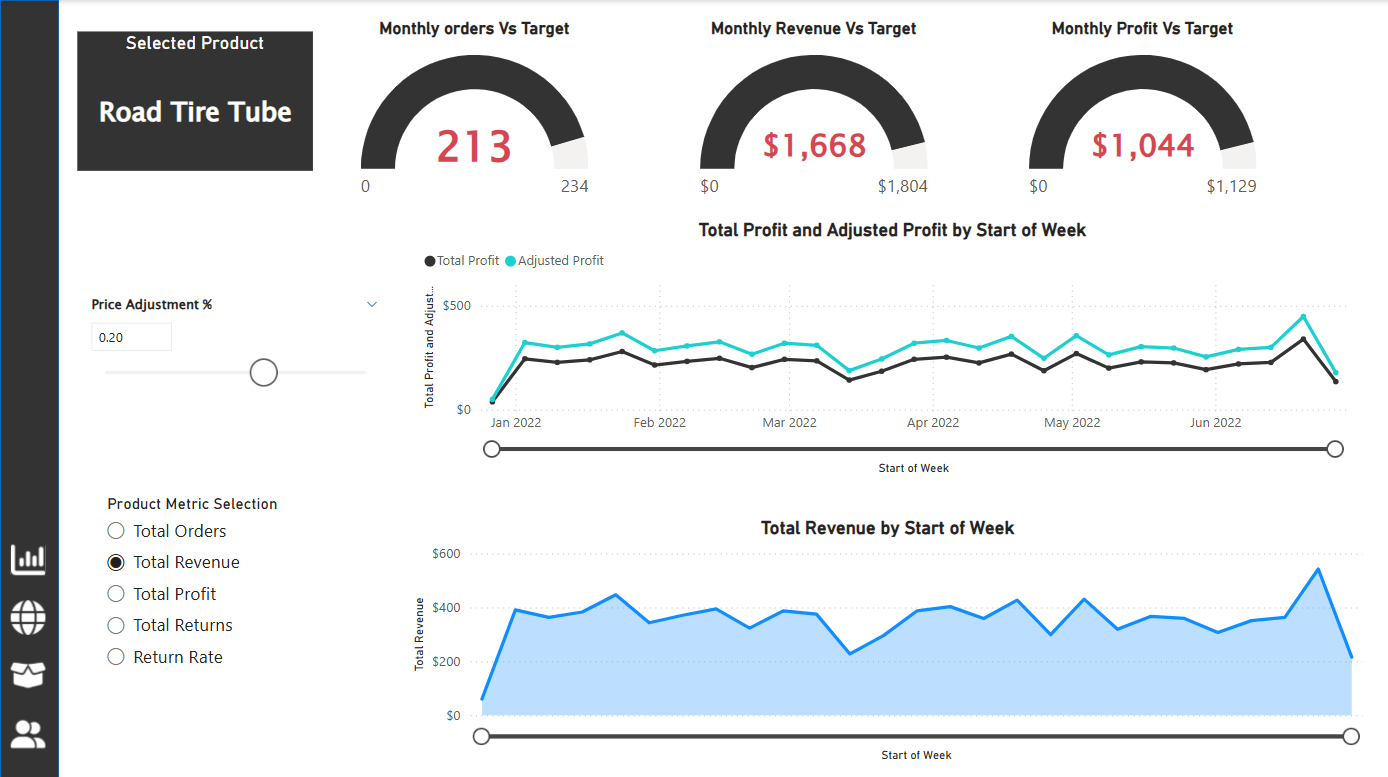

Layout of this report page (visuals, bound fields, positions):
{"tool":"powerbi","page":{"name":"Product Details","canvas":[1280,720],"ordinal":2},"visuals":[{"type":"shape","box":[0,0,54.5,719.1],"z":0},{"type":"actionButton","box":[5.4,495.8,99.9,40],"z":0,"group":"g1"},{"type":"gauge","title":"Monthly orders Vs Target","fields":{"Y":["Measurable Table.Total Orders"],"MaxValue":["Measurable Table.Order_Target(10% increse over previous month)"]},"box":[326.9,16.3,219.7,185.2],"z":1000},{"type":"actionButton","box":[5.4,549.1,99.9,40],"z":1000,"group":"g1"},{"type":"gauge","title":"Monthly Profit Vs Target","fields":{"Y":["Measurable Table.Total Profit"],"MaxValue":["Measurable Table.Profit_Target(10% increse over previous month)"]},"box":[940.7,16.3,219.7,185.2],"z":2000},{"type":"actionButton","box":[5.4,602.3,99.9,40],"z":2000,"group":"g1"},{"type":"gauge","title":"Monthly Revenue Vs Target","fields":{"Y":["Measurable Table.Total Revenue"],"MaxValue":["Measurable Table.Revenue Target"]},"box":[639.2,16.3,219.7,185.2],"z":3000},{"type":"actionButton","box":[5.4,655.6,99.9,40],"z":3000,"group":"g1"},{"type":"lineChart","fields":{"Category":["Calendar Lookup.Date Hirearchy.Start of Year","Calendar Lookup.Date Hirearchy.Start of Month","Calendar Lookup.Date Hirearchy.Start of Week","Calendar Lookup.Date Hirearchy.Date"],"Y":["Measurable Table.Total Profit","Measurable Table.Adjusted Profit"]},"box":[384.7,201.3,873.2,239.8],"z":4000},{"type":"areaChart","fields":{"Y":["Measurable Table.Total Revenue"],"Category":["Calendar Lookup.Date Hirearchy.Start of Year","Calendar Lookup.Date Hirearchy.Start of Month","Calendar Lookup.Date Hirearchy.Start of Week","Calendar Lookup.Date Hirearchy.Date"]},"box":[374.4,474.4,883.4,230.8],"z":5000},{"type":"card","title":"Selected Product ","fields":{"Values":["Min(Product Lookup.ProductName)"]},"box":[70.5,29.5,216.7,128.2],"z":6000},{"type":"group","id":"g1","title":"Navigation button","box":[5.4,495.8,99.9,199.8],"z":7000},{"type":"slicer","fields":{"Values":["Parameter.Parameter"]},"box":[70.5,266.7,288.5,110.3],"z":8000},{"type":"slicer","fields":{"Values":["Product Metric Selection.Product Metric Selection"]},"box":[85.9,450.1,224.4,192.3],"z":9000}]}

Visuals, with their boxes on the page's 1280x720 design canvas (x1, y1, x2, y2). These are canvas units, not pixel positions in the 1388x777 screenshot, which may show the page scaled, cropped or inside an application window:
shape: 0/0/54/719
actionButton: 5/496/105/536
"Monthly orders Vs Target" gauge: 327/16/547/202
actionButton: 5/549/105/589
"Monthly Profit Vs Target" gauge: 941/16/1160/202
actionButton: 5/602/105/642
"Monthly Revenue Vs Target" gauge: 639/16/859/202
actionButton: 5/656/105/696
lineChart - Calendar Lookup.Date Hirearchy.Start of Year x Calendar Lookup.Date Hirearchy.Start of Month: 385/201/1258/441
areaChart - Measurable Table.Total Revenue x Calendar Lookup.Date Hirearchy.Start of Year: 374/474/1258/705
"Selected Product " card: 70/30/287/158
"Navigation button" group: 5/496/105/696
slicer - Parameter.Parameter: 70/267/359/377
slicer - Product Metric Selection.Product Metric Selection: 86/450/310/642
